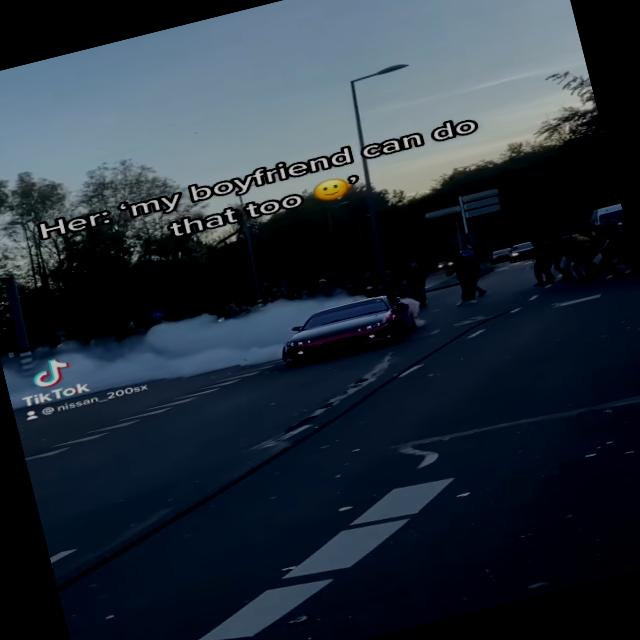car: (274, 285, 418, 372)
